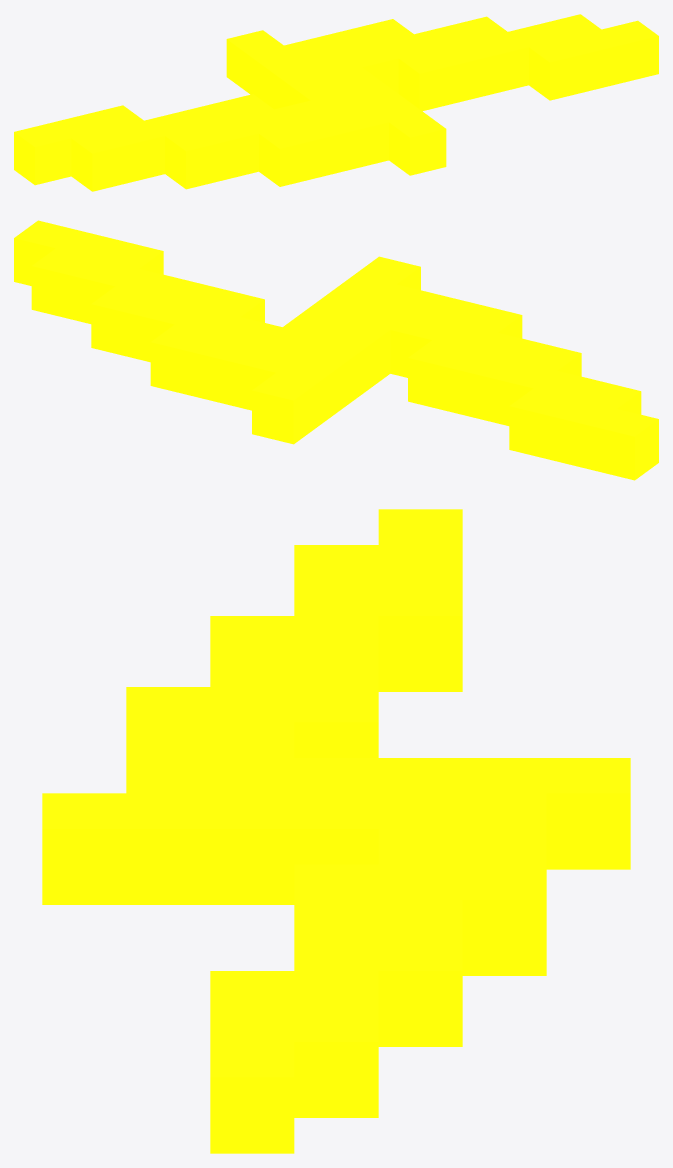
The model's file is Projectile_Electro.fbx.
3 renders of one model, top to bottom at view 1: azimuth 30°, elevation 25°; view 2: azimuth 150°, elevation 25°; view 3: azimuth 270°, elevation 25°, orthographic. The views are drawn at different scales.
Parts seen in each view (by area): view 1: Cube.977; view 2: Cube.977; view 3: Cube.977.
Boxes of the visible parts, bbox=[...] form: Cube.977: bbox=[14, 14, 658, 191]; Cube.977: bbox=[14, 220, 658, 480]; Cube.977: bbox=[42, 509, 630, 1153].
Size of the model in its own units: 3200 by 200 by 1400.
